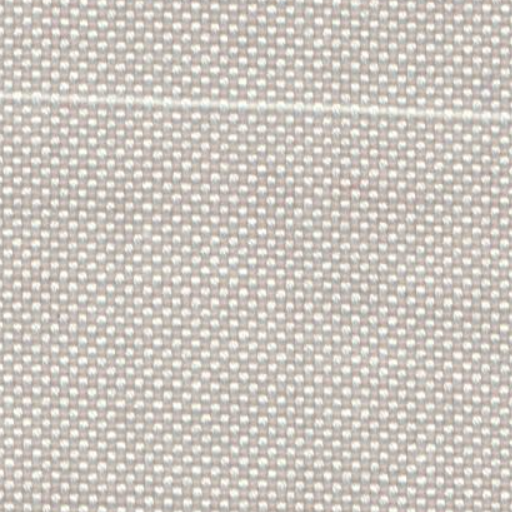TuoSha: (5, 67, 494, 152)
